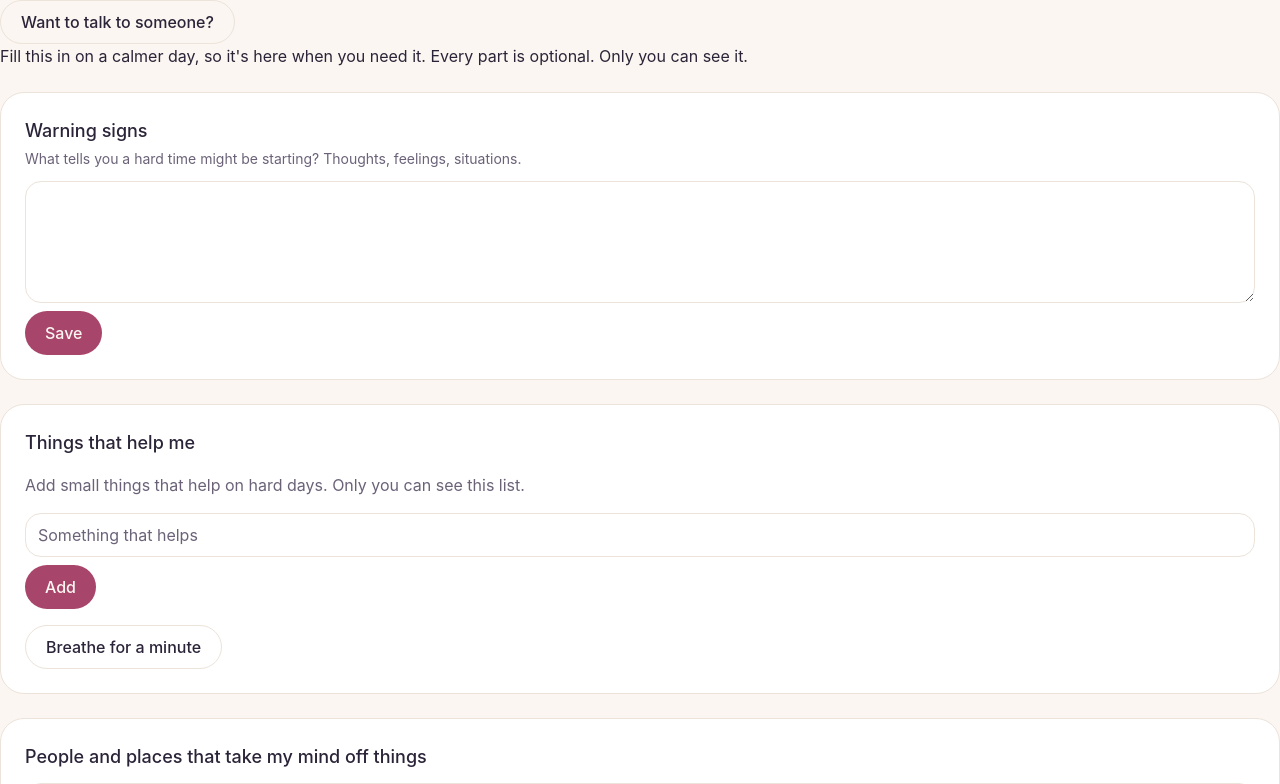
Test: SafetyPlanEditor: help is never held up (the Reviewer's read) › unsaved text, then the help button: the card opens at once, with no question first
Type "Not sleeping" into the text box with test id "plan-warning_signs-text".
click(640, 242); type("Not sleeping")  # box [25, 181, 1255, 303]
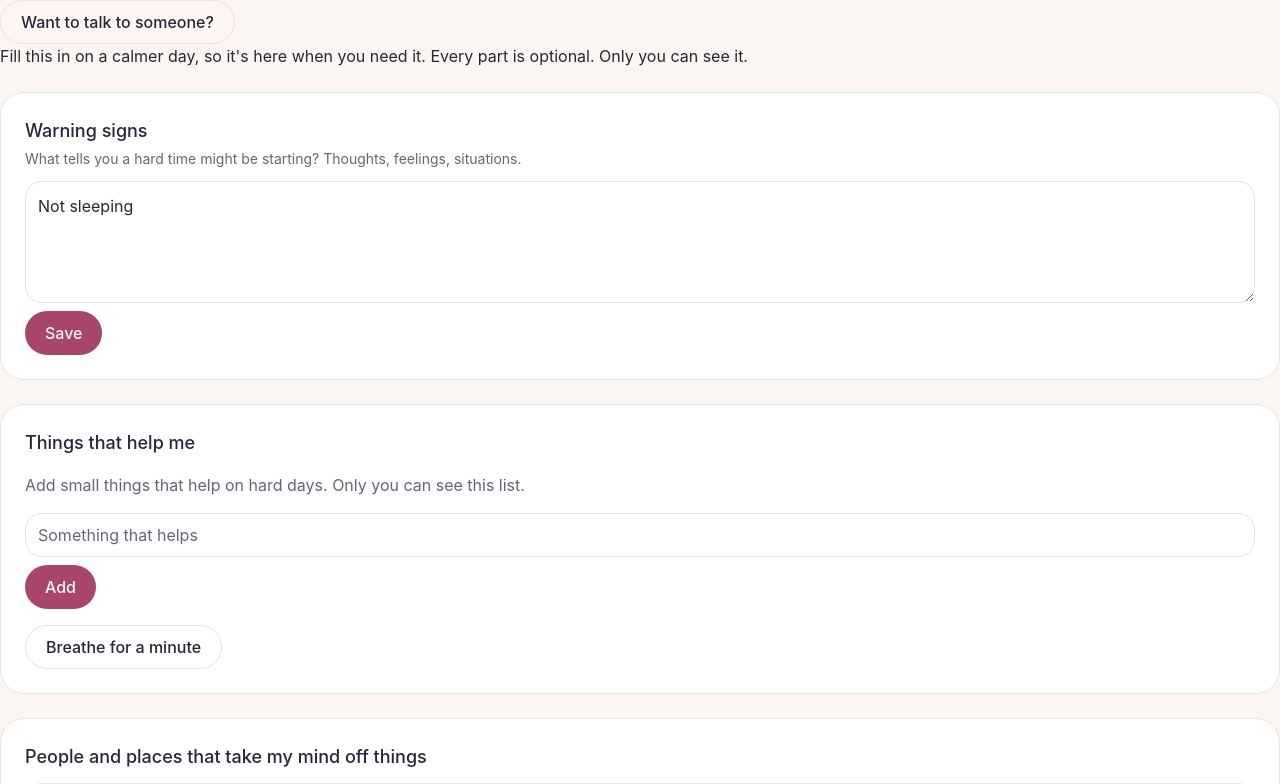
Click the link with test id "plan-get-help".
click(117, 22)  # box [0, 0, 235, 44]
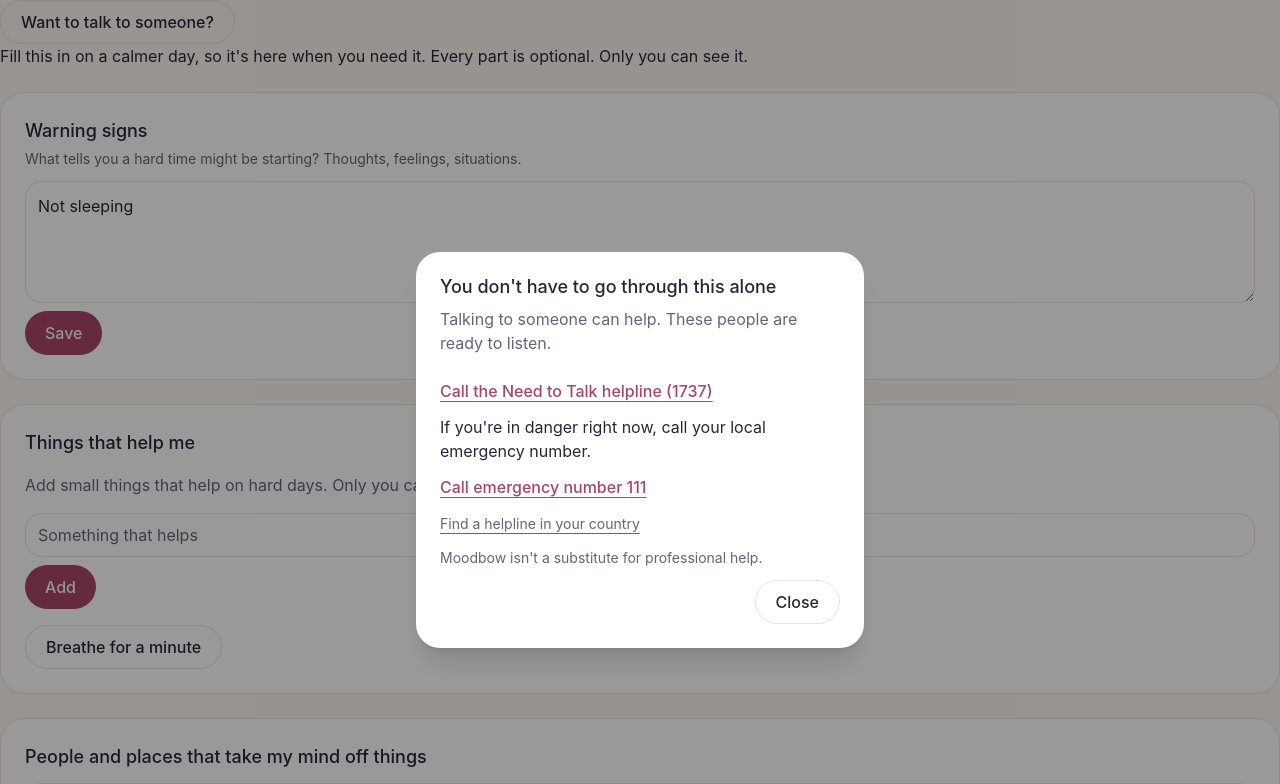
Check: the dialog with test id "safety-card" is shown, box [416, 252, 864, 648]
